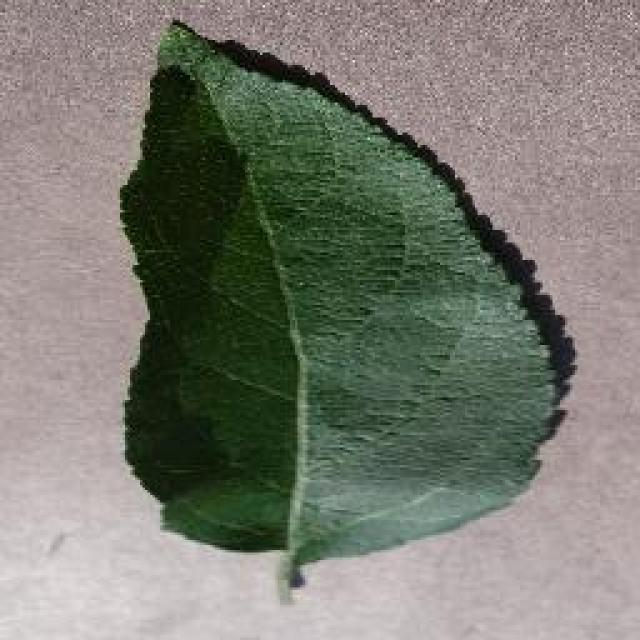apple healthy: (115, 15, 577, 597)
